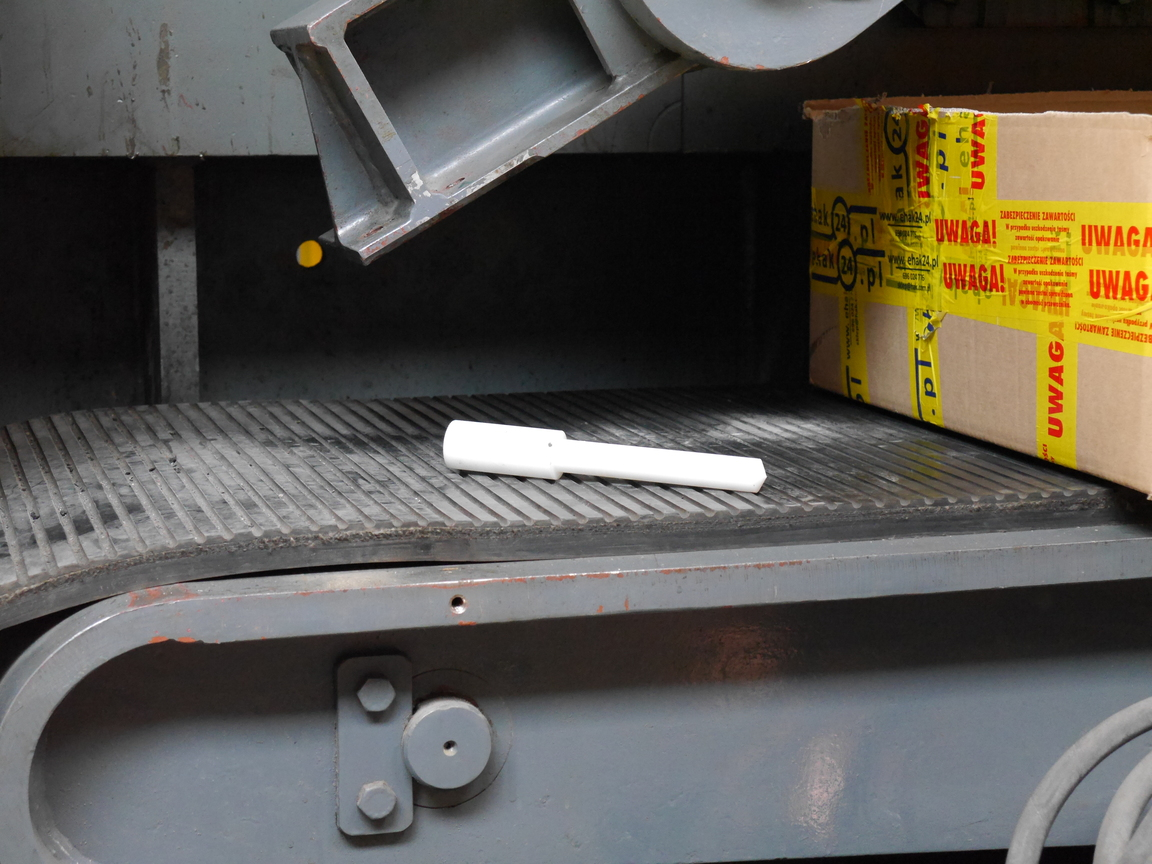cargo_g: (439, 417, 767, 497)
